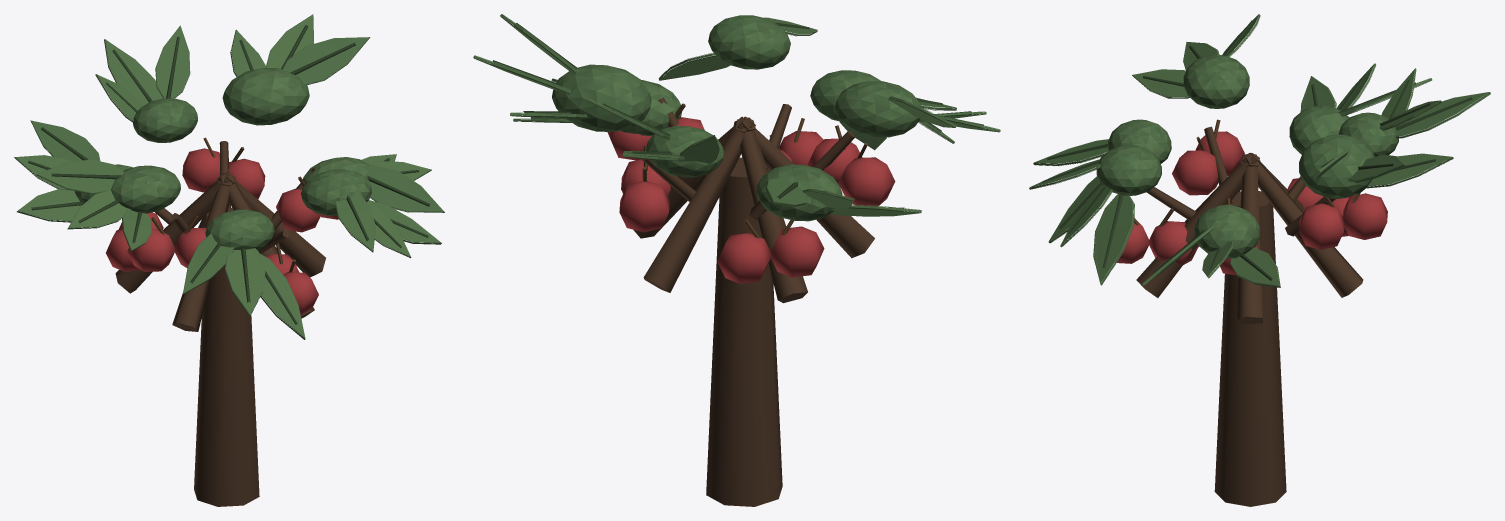
File: cherry.m1.glb
3 views of the same model, side by side, from view 1: azimuth 30°, elevation 25°; view 2: azimuth 150°, elevation 25°; view 3: azimuth 270°, elevation 25° (orthographic). The views are drawn at different scales.
Parts seen in each view (by area): view 1: plant.crop-cherry; view 2: plant.crop-cherry; view 3: plant.crop-cherry.
Boxes of the visible parts, bbox=[...] form: plant.crop-cherry: bbox=[14, 14, 444, 506]; plant.crop-cherry: bbox=[473, 14, 1000, 506]; plant.crop-cherry: bbox=[1029, 14, 1490, 506].
Size of the model in its own units: 2.29 by 2.29 by 2.32.
